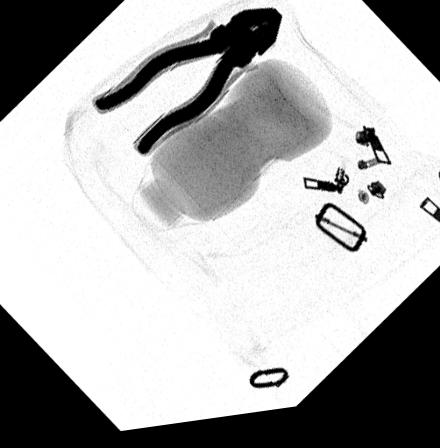Pliers: (94, 15, 283, 160)
